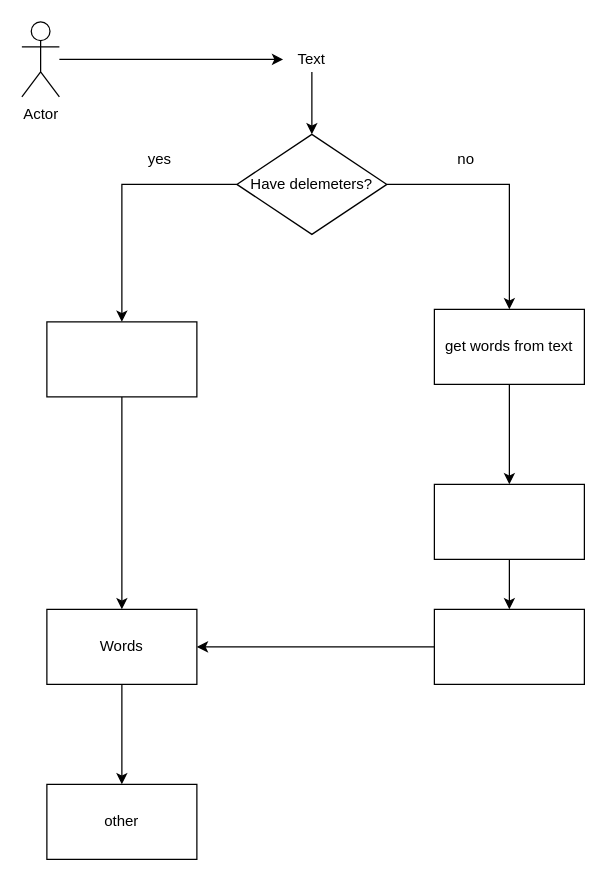
The diagram is 606 pixels wide and 881 high, and some of its shapes have lost their labels. Here are the shapes that lost their labels. From the top down, the centre of each, then its label:
At pixel 121 359: "TextProcessor".
At pixel 508 521: "пройтись по каждому слову".
At pixel 508 646: "select his context".
